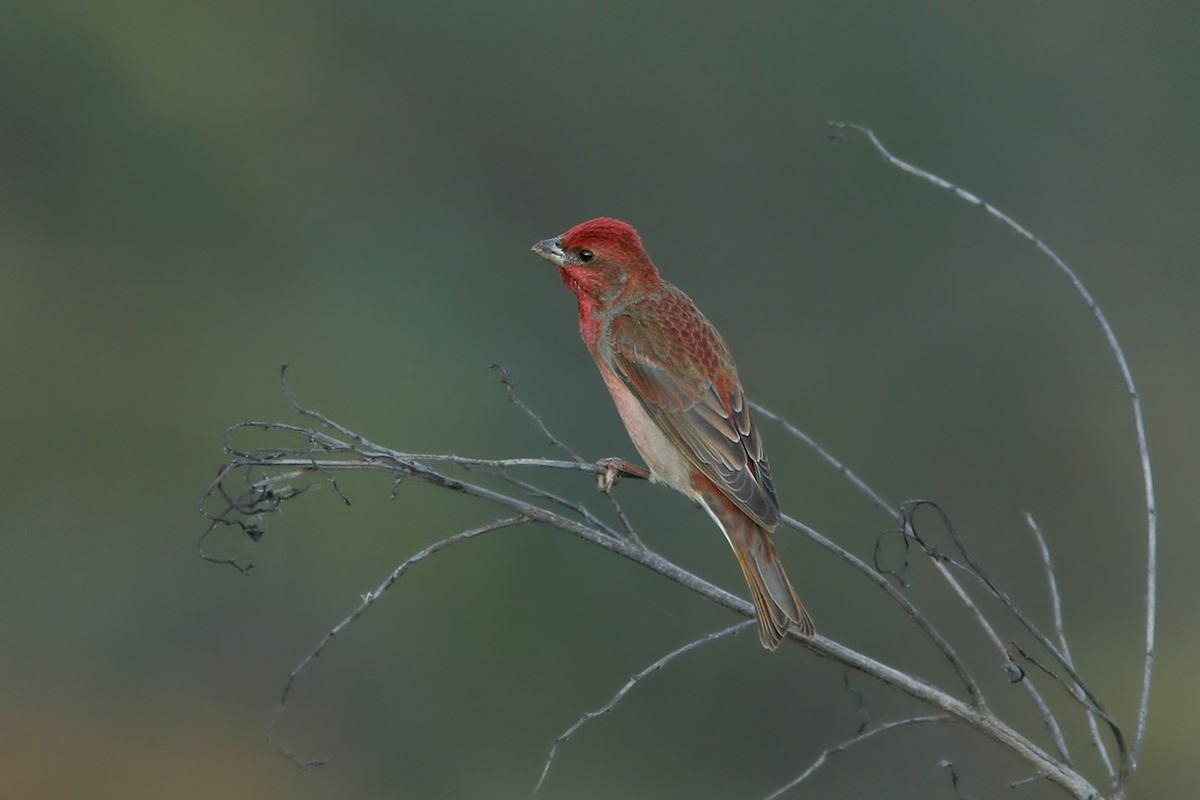rosefinch: (523, 213, 866, 630)
